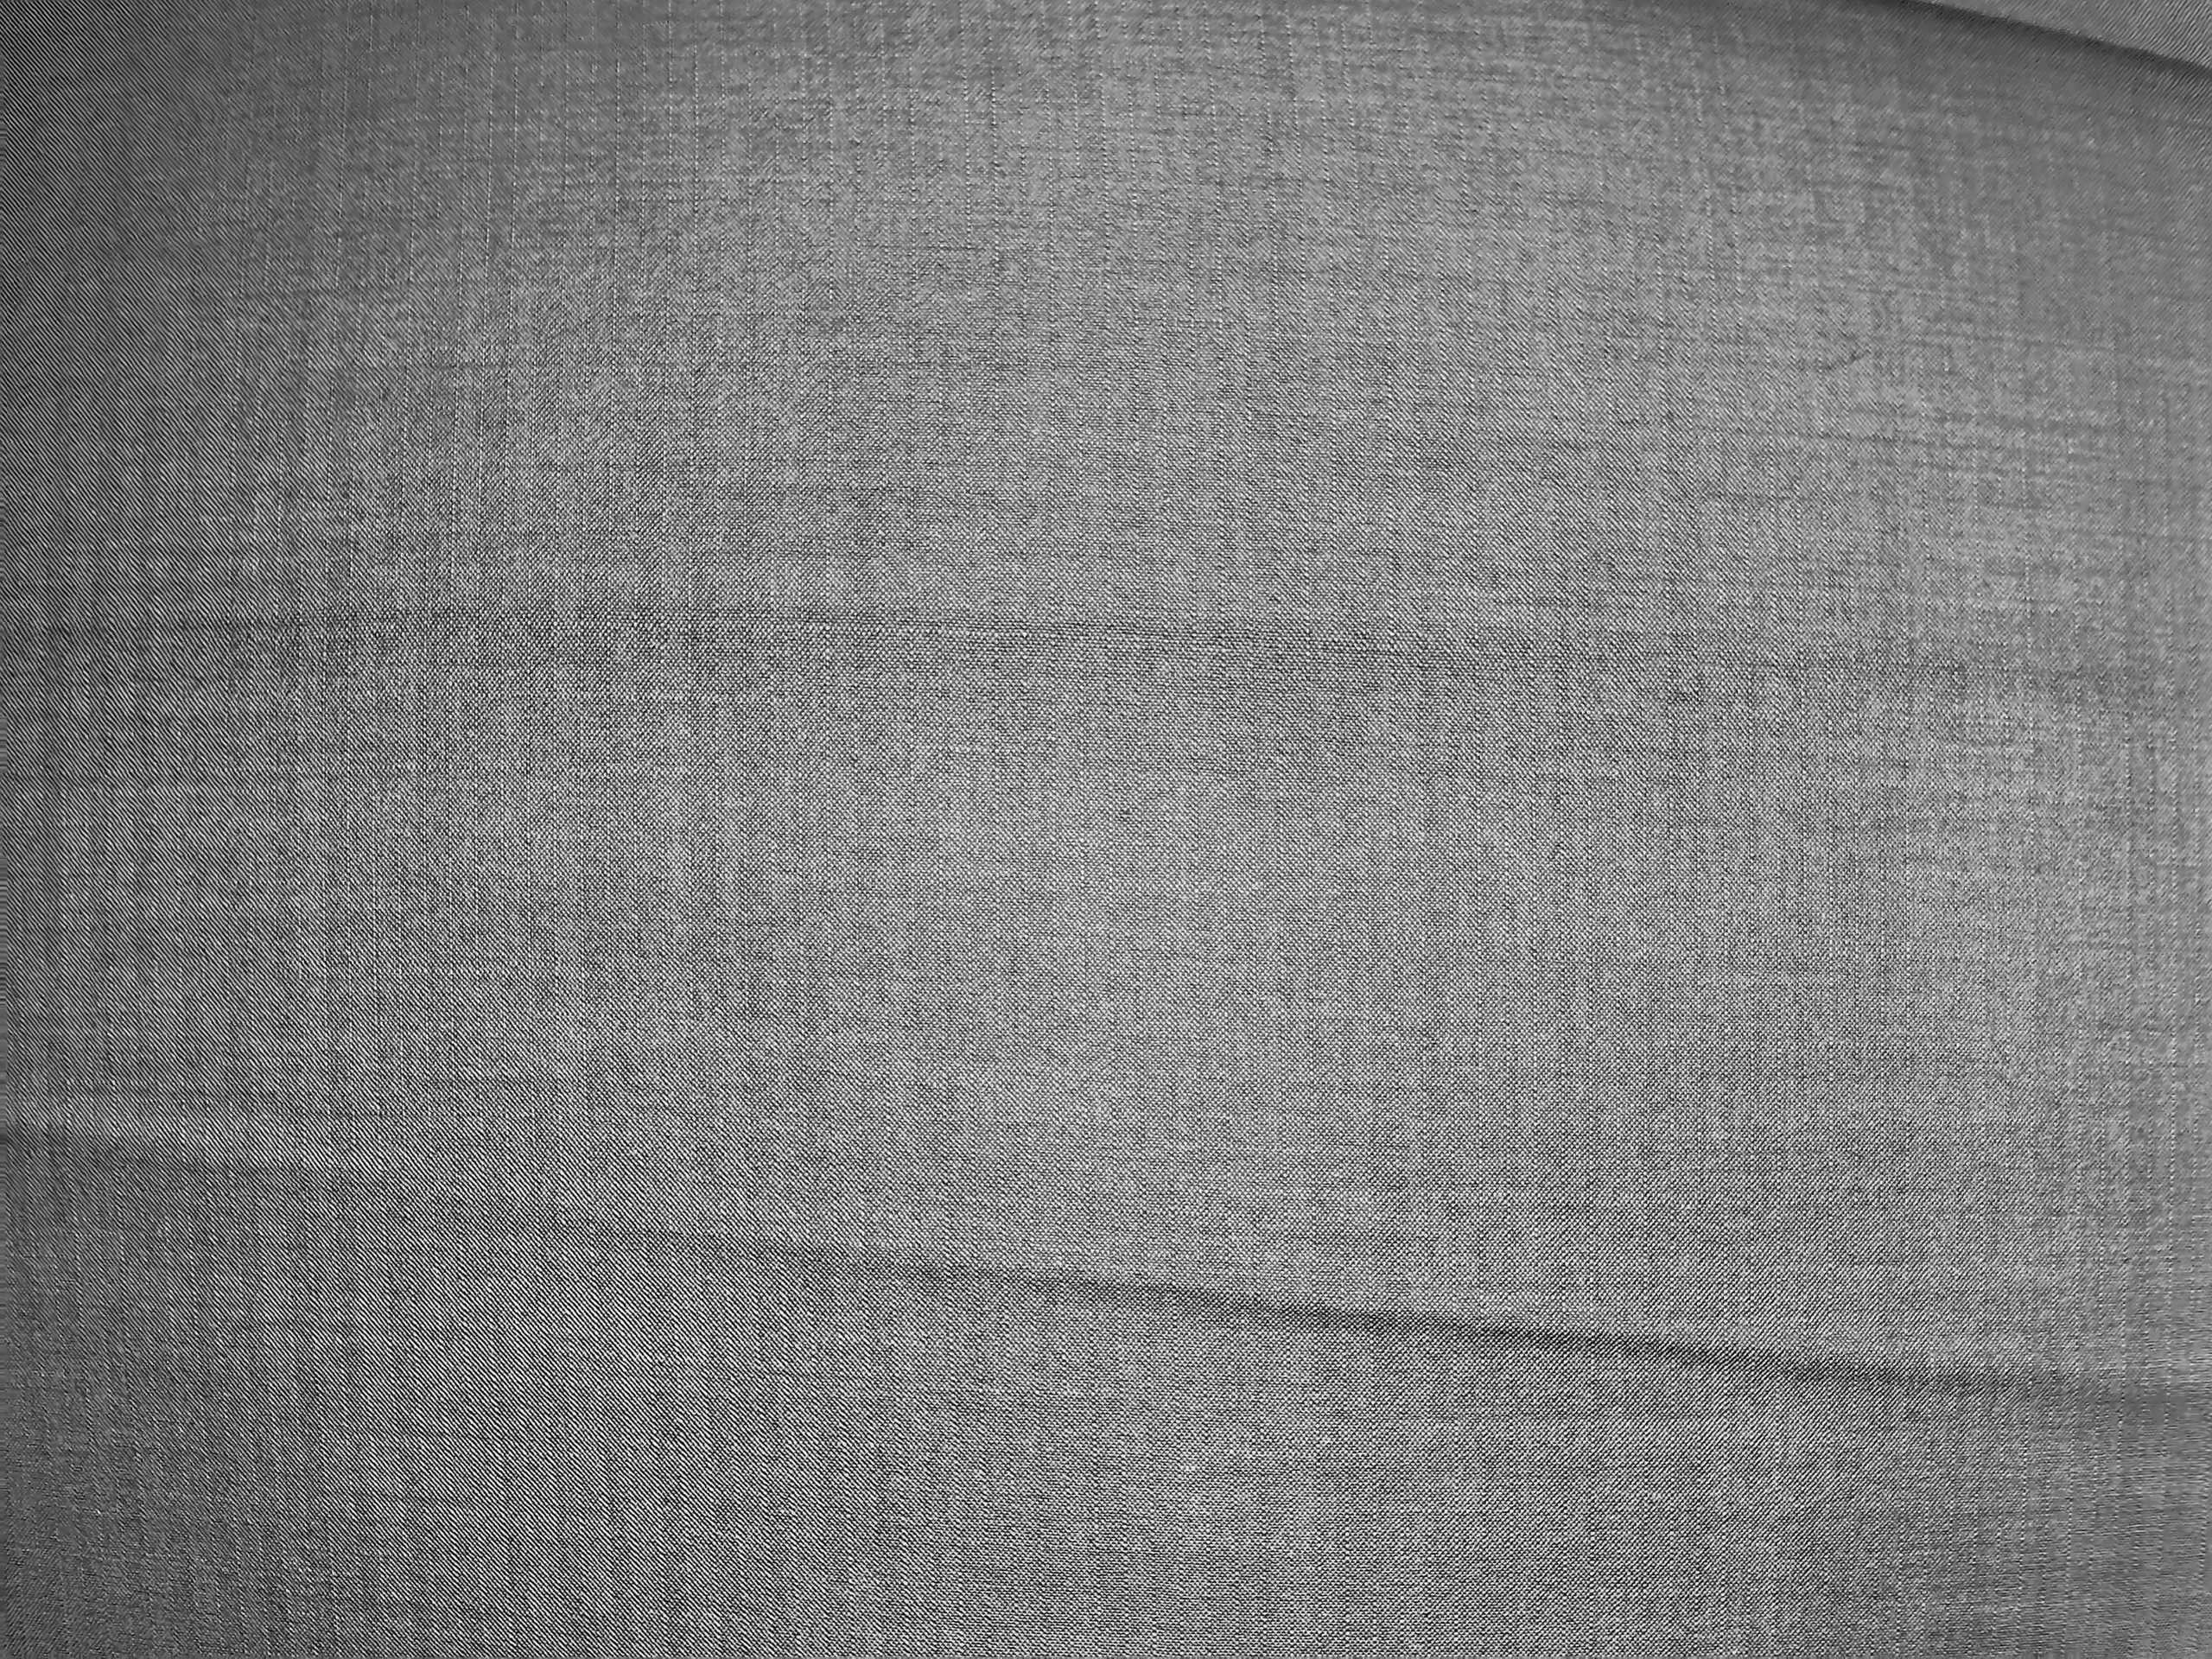others: (52, 584, 2198, 730)
